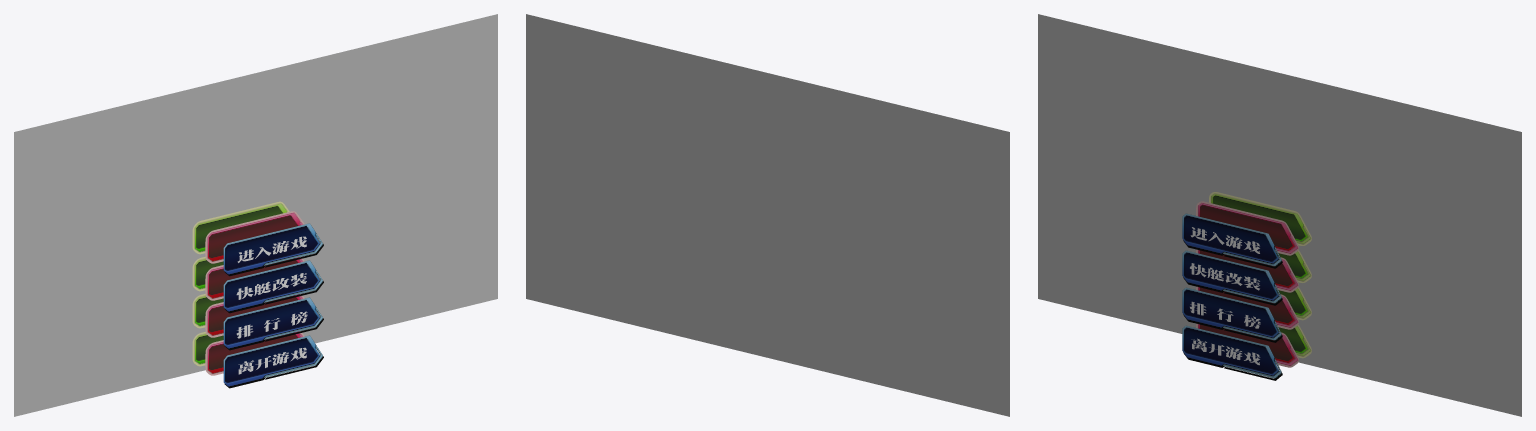
The model's file is title.FBX.
The picture shows the model from 3 angles, left to right: view 1: azimuth 30°, elevation 25°; view 2: azimuth 150°, elevation 25°; view 3: azimuth 330°, elevation 25°; orthographic projection.
Visible parts, largest first — view 1: tr_mo_title, tr_mo_title_button_a003, tr_mo_title_button_a01, tr_mo_title_button_a004, tr_mo_title_button_a02, tr_mo_title_button_c01, tr_mo_title_button_b01, tr_mo_title_button_c04, tr_mo_title_button_c03, tr_mo_title_button_c02, tr_mo_title_button_b04, tr_mo_title_button_b02 (+4 smaller); view 2: tr_mo_title; view 3: tr_mo_title, tr_mo_title_button_a003, tr_mo_title_button_a004, tr_mo_title_button_a01, tr_mo_title_button_a02, tr_mo_title_button_c01, tr_mo_title_button_b01, tr_mo_title_button_c04, tr_mo_title_button_c03, tr_mo_title_button_c02, tr_mo_title_button_b04, tr_mo_title_button_a02_1 (+4 smaller).
Part boxes in pixels (bbox=[...]): tr_mo_title: bbox=[14, 14, 497, 416]; tr_mo_title_button_a003: bbox=[223, 297, 323, 350]; tr_mo_title_button_a01: bbox=[223, 223, 323, 276]; tr_mo_title_button_a004: bbox=[223, 335, 323, 388]; tr_mo_title_button_a02: bbox=[223, 260, 323, 313]; tr_mo_title_button_c01: bbox=[205, 211, 304, 263]; tr_mo_title_button_b01: bbox=[192, 201, 289, 254]; tr_mo_title_button_c04: bbox=[205, 331, 304, 375]; tr_mo_title_button_c03: bbox=[205, 294, 304, 337]; tr_mo_title_button_c02: bbox=[205, 256, 304, 300]; tr_mo_title_button_b04: bbox=[192, 332, 223, 366]; tr_mo_title_button_b02: bbox=[192, 256, 223, 291]; tr_mo_title: bbox=[526, 14, 1009, 416]; tr_mo_title: bbox=[1038, 14, 1521, 416]; tr_mo_title_button_a003: bbox=[1182, 287, 1282, 342]; tr_mo_title_button_a004: bbox=[1182, 325, 1282, 380]; tr_mo_title_button_a01: bbox=[1182, 213, 1282, 268]; tr_mo_title_button_a02: bbox=[1182, 250, 1282, 305]; tr_mo_title_button_c01: bbox=[1196, 201, 1298, 255]; tr_mo_title_button_b01: bbox=[1209, 192, 1311, 245]; tr_mo_title_button_c04: bbox=[1196, 323, 1298, 367]; tr_mo_title_button_c03: bbox=[1196, 286, 1298, 329]; tr_mo_title_button_c02: bbox=[1196, 249, 1298, 292]; tr_mo_title_button_b04: bbox=[1276, 325, 1311, 358]; tr_mo_title_button_a02_1: bbox=[1190, 263, 1259, 290].
Bounding box in the file's own units: 128 × 72 × 16.22.
